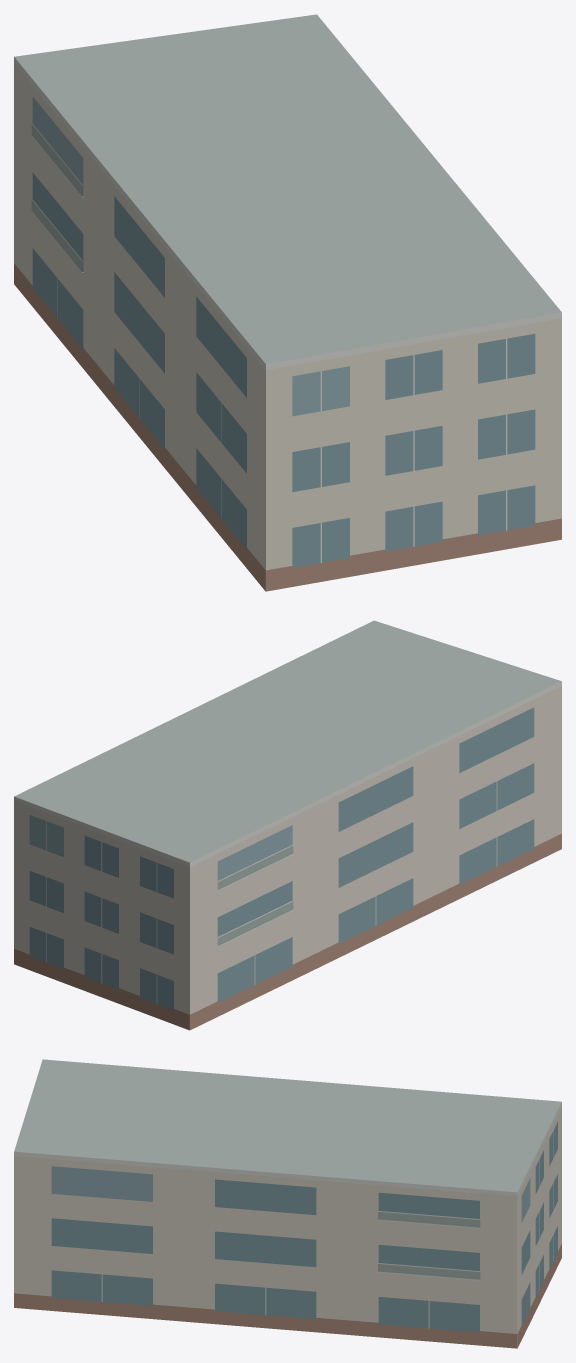
The model's file is survey-upis-32759064.glb.
The picture shows the model from 3 angles, top to bottom: view 1: azimuth 30°, elevation 25°; view 2: azimuth 150°, elevation 25°; view 3: azimuth 270°, elevation 25°; orthographic projection. The views are drawn at different scales.
Parts seen in each view (by area): view 1: survey-upis-32759064.tmp; view 2: survey-upis-32759064.tmp; view 3: survey-upis-32759064.tmp.
Part boxes in pixels (x1,y1,x2,y2): survey-upis-32759064.tmp: (14,14,561,591); survey-upis-32759064.tmp: (14,620,561,1030); survey-upis-32759064.tmp: (14,1059,561,1348).
Bounding box in the file's own units: 16.72 × 9.15 × 29.09.
